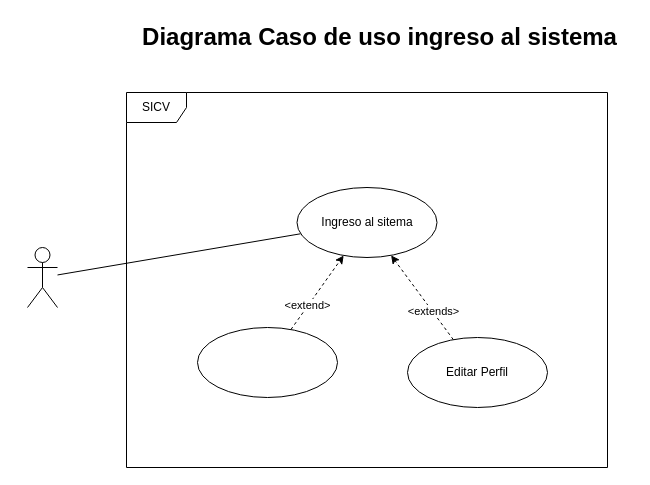
This 650x485 diagram has some shape labels left out. The centre of each missing label's shape, as x and y in pixels:
Registrar Vehiculo: point 267,362
Vendedor: point 42,277
